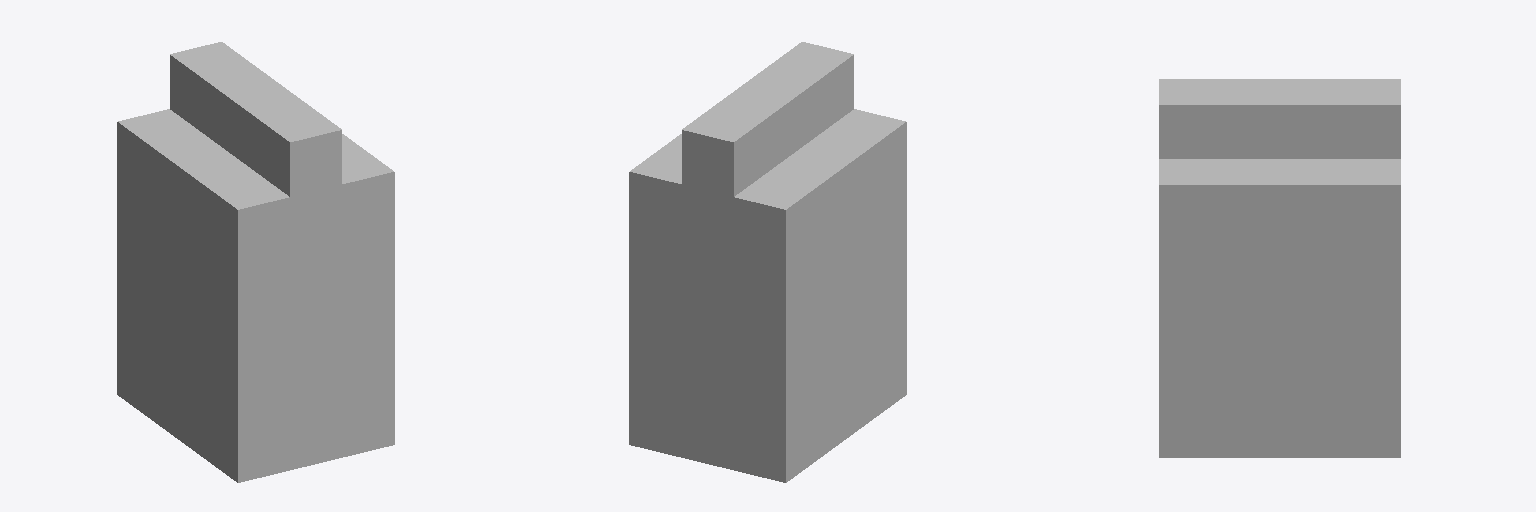
Rendered from 01_maze__end_white_2X.obj.
3 views of the same model, side by side, from view 1: azimuth 30°, elevation 25°; view 2: azimuth 150°, elevation 25°; view 3: azimuth 270°, elevation 25° (orthographic).
Parts seen in each view (by area): view 1: default; view 2: default; view 3: default.
Boxes of the visible parts, <box> form: default: <box>117,42,394,482</box>; default: <box>629,42,906,482</box>; default: <box>1159,79,1400,457</box>.
Bounding box in the file's own units: 6 × 12 × 8.